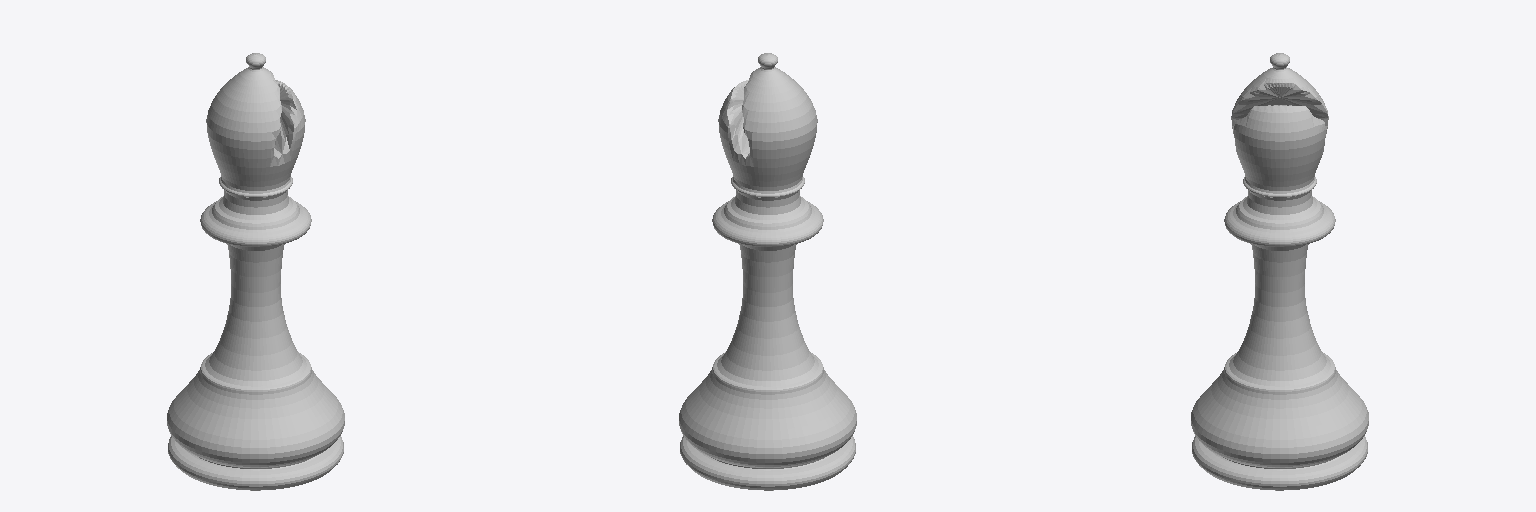
The model's file is bishop.obj.
The picture shows the model from 3 angles: view 1: azimuth 30°, elevation 25°; view 2: azimuth 150°, elevation 25°; view 3: azimuth 270°, elevation 25°; orthographic projection.
Parts seen in each view (by area): view 1: bishop_black_2_Cylinder.018; view 2: bishop_black_2_Cylinder.018; view 3: bishop_black_2_Cylinder.018.
Boxes of the visible parts, box(x1,y1,x2,y2) form: bishop_black_2_Cylinder.018: box(167, 53, 344, 490); bishop_black_2_Cylinder.018: box(679, 53, 856, 490); bishop_black_2_Cylinder.018: box(1191, 53, 1368, 490).
Size of the model in its own units: 1.17 by 2.93 by 1.17.